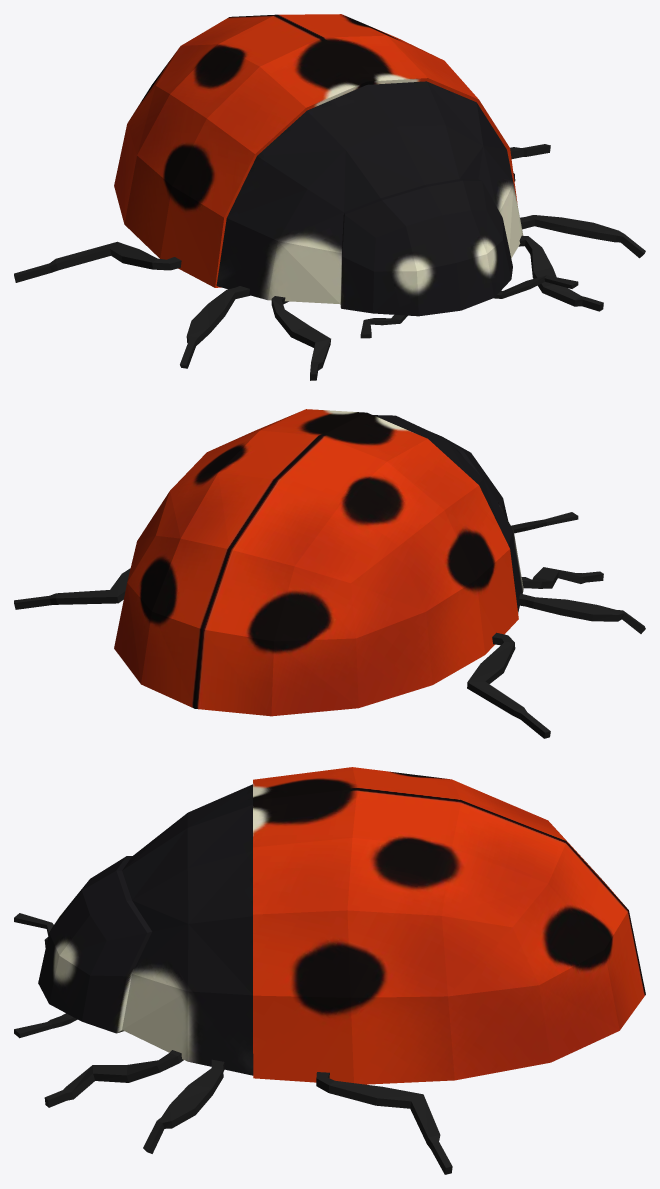
File: Ladybug.glb
3 renders of one model, top to bottom at view 1: azimuth 30°, elevation 25°; view 2: azimuth 150°, elevation 25°; view 3: azimuth 270°, elevation 25°, orthographic. The views are drawn at different scales.
Parts seen in each view (by area): view 1: Node; view 2: Node; view 3: Node.
Boxes of the visible parts, <box> form: Node: <box>14,14,645,380</box>; Node: <box>14,409,645,738</box>; Node: <box>14,767,645,1174</box>.
Size of the model in its own units: 1.4 by 0.5191 by 1.25.
Materials: 2 (1 with a texture image).
